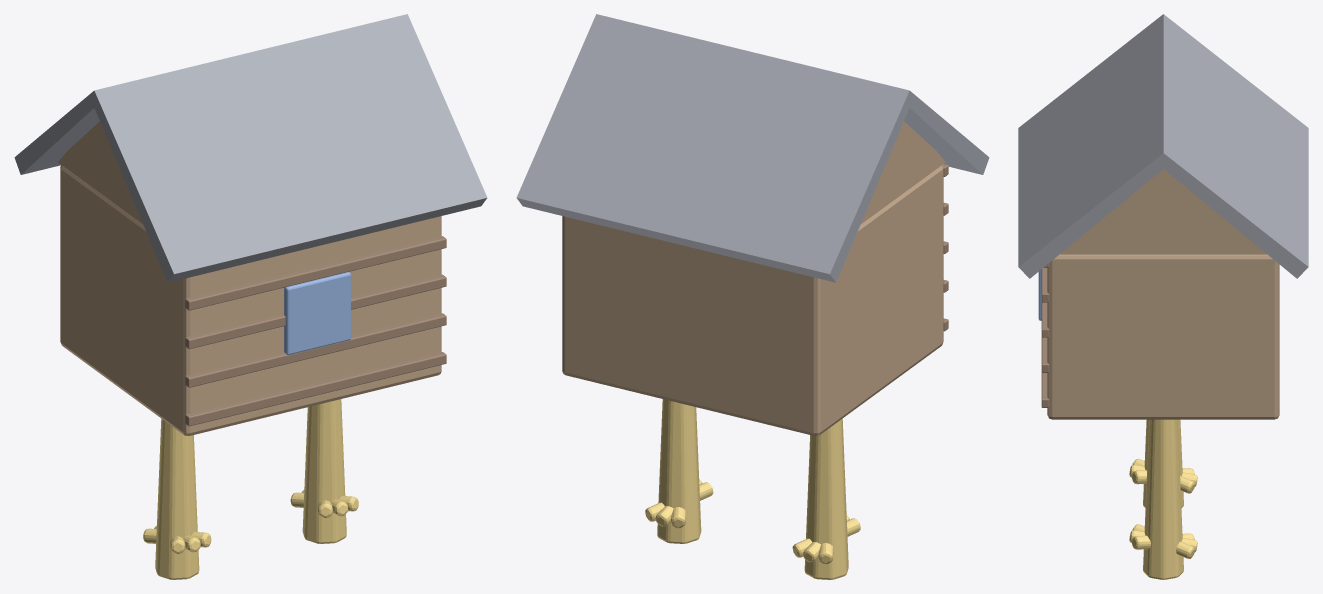
The model's file is lm_eslavo_hut_legs.glb.
The picture shows the model from 3 angles, left to right: view 1: azimuth 30°, elevation 25°; view 2: azimuth 150°, elevation 25°; view 3: azimuth 270°, elevation 25°; orthographic projection. The views are drawn at different scales.
Parts seen in each view (by area): view 1: lm_eslavo_hut_legs; view 2: lm_eslavo_hut_legs; view 3: lm_eslavo_hut_legs.
Boxes of the visible parts, x1=… form: lm_eslavo_hut_legs: x1=14, y1=14, x2=487, y2=579; lm_eslavo_hut_legs: x1=516, y1=14, x2=989, y2=579; lm_eslavo_hut_legs: x1=1018, y1=14, x2=1308, y2=579.
Bounding box in the file's own units: 3.4 × 5.2 × 3.
